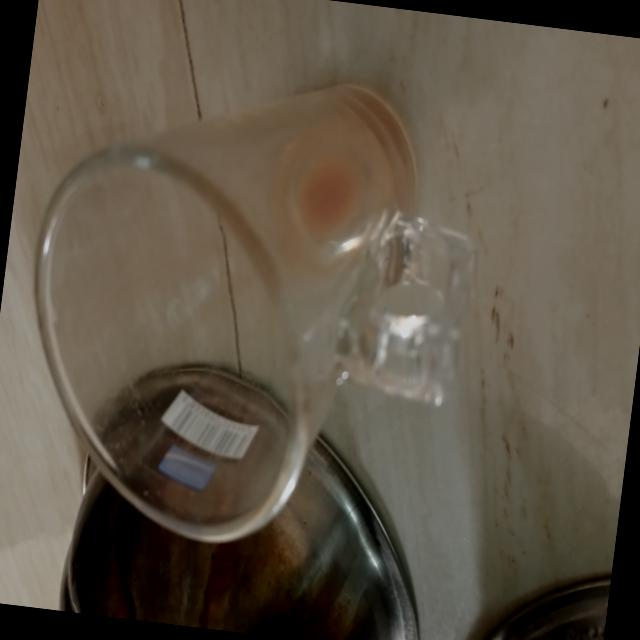glass-VX4N: (0, 46, 482, 566)
